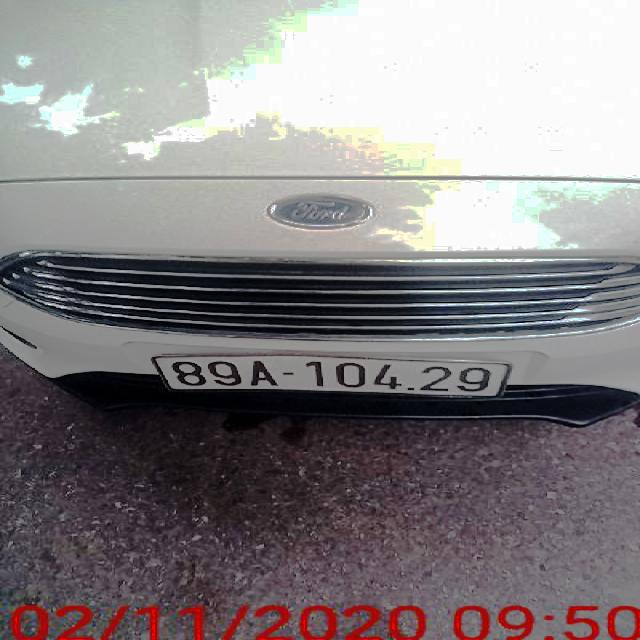license_plate: (161, 355, 509, 397)
